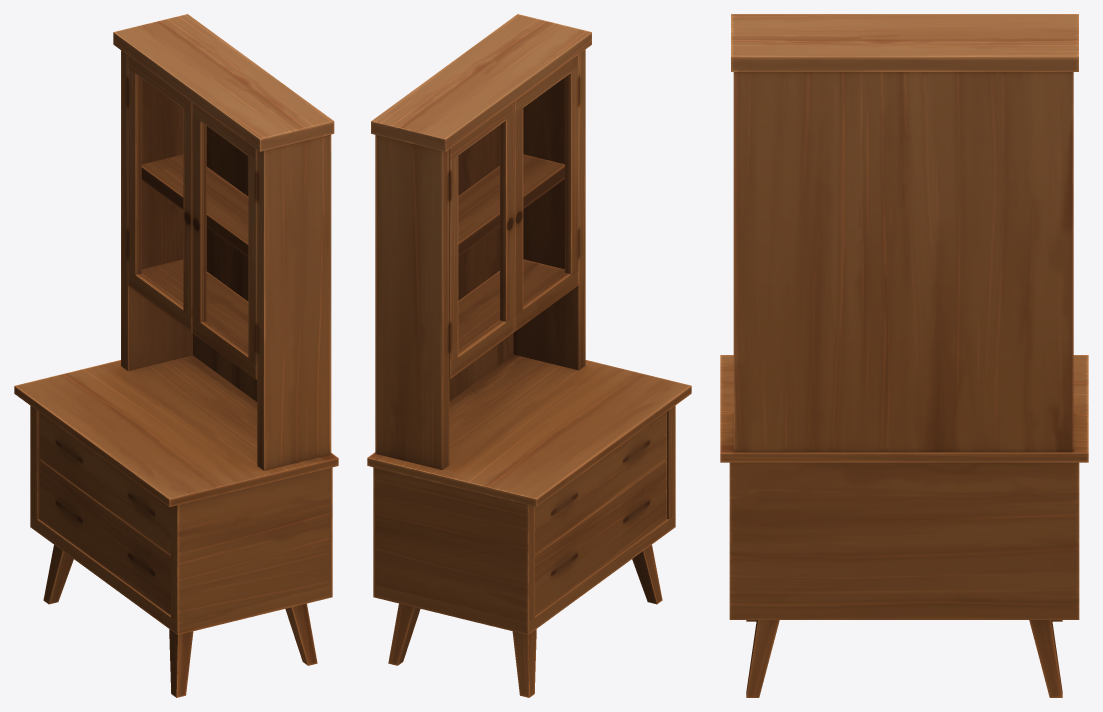
The model's file is 13small-cupboard.glb.
3 renders of one model, left to right at view 1: azimuth 30°, elevation 25°; view 2: azimuth 150°, elevation 25°; view 3: azimuth 270°, elevation 25°, orthographic. The views are drawn at different scales.
Visible parts, largest first — view 1: cb_sides_top_low, cb_desk_low, cb_sides_bottom_low, cb_top_low, cb_drawer1_low, cb_door_right_low, cb_door_left_low, cb_drawer2_low, cb_back_top_low, cb_base_low, cb_shelf2_low, cb_legs_low (+1 smaller); view 2: cb_sides_top_low, cb_desk_low, cb_sides_bottom_low, cb_top_low, cb_drawer1_low, cb_door_right_low, cb_door_left_low, cb_drawer2_low, cb_back_top_low, cb_base_low, cb_shelf2_low, cb_legs_low (+1 smaller); view 3: cb_back_top_low, cb_back_bottom_low, cb_top_low, cb_desk_low, cb_legs_low.
Part boxes in pixels (left/top/right/bottom): cb_sides_top_low: left=121, top=50, right=328, bottom=470; cb_desk_low: left=14, top=355, right=338, bottom=507; cb_sides_bottom_low: left=30, top=406, right=330, bottom=621; cb_top_low: left=113, top=14, right=334, bottom=151; cb_drawer1_low: left=39, top=459, right=170, bottom=614; cb_door_right_low: left=127, top=55, right=192, bottom=332; cb_door_left_low: left=192, top=102, right=257, bottom=379; cb_drawer2_low: left=39, top=412, right=170, bottom=554; cb_back_top_low: left=193, top=126, right=331, bottom=454; cb_base_low: left=30, top=514, right=330, bottom=634; cb_shelf2_low: left=141, top=154, right=248, bottom=256; cb_legs_low: left=43, top=545, right=317, bottom=697; cb_sides_top_low: left=377, top=49, right=585, bottom=469; cb_desk_low: left=367, top=354, right=691, bottom=506; cb_sides_bottom_low: left=375, top=405, right=675, bottom=621; cb_top_low: left=371, top=14, right=591, bottom=151; cb_drawer1_low: left=535, top=459, right=666, bottom=614; cb_door_right_low: left=449, top=101, right=514, bottom=378; cb_door_left_low: left=514, top=54, right=578, bottom=331; cb_drawer2_low: left=535, top=412, right=666, bottom=554; cb_back_top_low: left=375, top=125, right=513, bottom=453; cb_base_low: left=375, top=514, right=675, bottom=634; cb_shelf2_low: left=458, top=154, right=564, bottom=256; cb_legs_low: left=388, top=545, right=662, bottom=697; cb_back_top_low: left=733, top=72, right=1073, bottom=451; cb_back_bottom_low: left=729, top=462, right=1079, bottom=619; cb_top_low: left=731, top=14, right=1078, bottom=71; cb_desk_low: left=720, top=355, right=1088, bottom=462; cb_legs_low: left=746, top=620, right=1062, bottom=697.
Size of the model in its own units: 0.5886 by 1.81 by 0.9333.
1 material, 1 textured.
